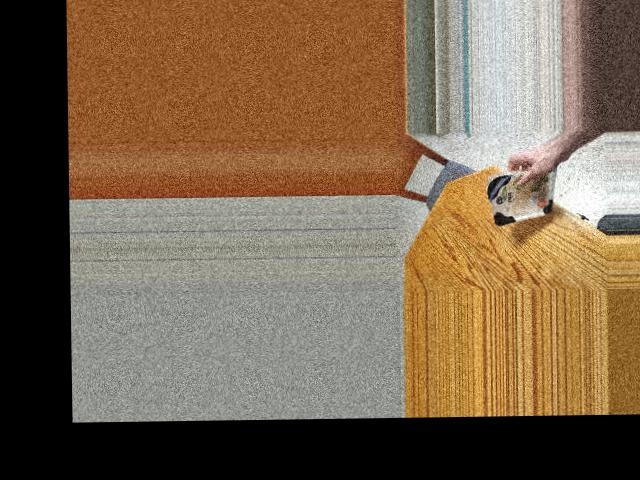cheese: (483, 164, 569, 221)
